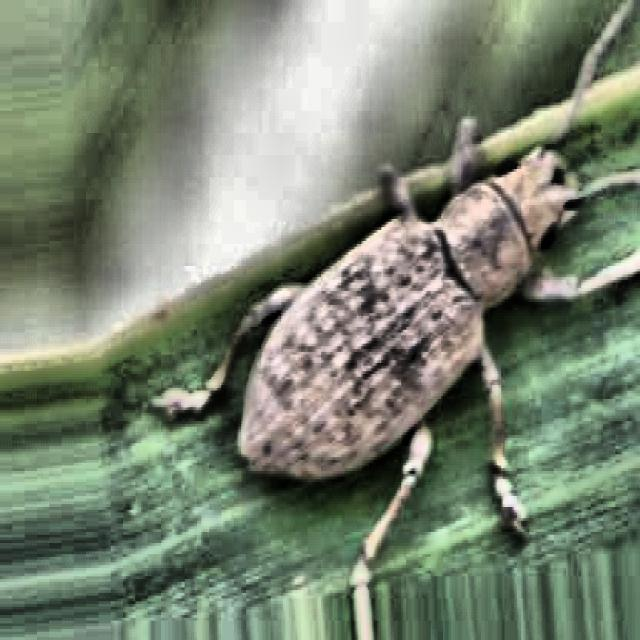Stink bug: (199, 36, 635, 569)
